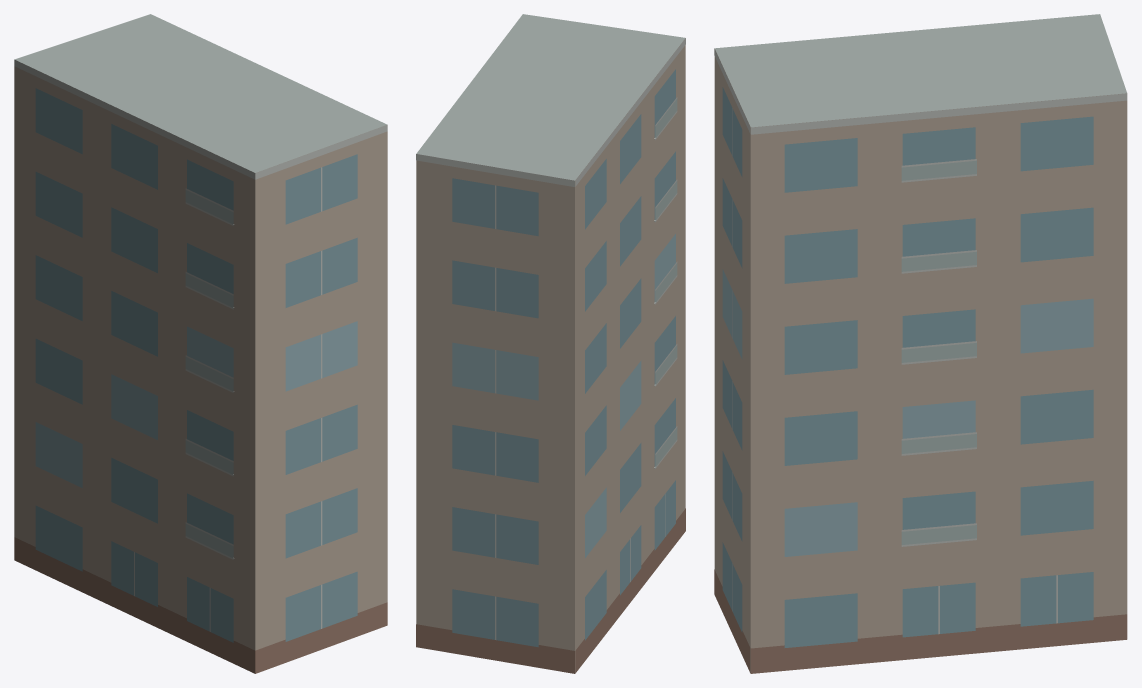
File: survey-upis-32746213.glb
The picture shows the model from 3 angles, left to right: view 1: azimuth 30°, elevation 25°; view 2: azimuth 150°, elevation 25°; view 3: azimuth 270°, elevation 25°; orthographic projection. The views are drawn at different scales.
Visible parts, largest first — view 1: survey-upis-32746213.tmp; view 2: survey-upis-32746213.tmp; view 3: survey-upis-32746213.tmp.
Boxes of the visible parts, x1,y1,x2,y2 form: survey-upis-32746213.tmp: (14, 14, 387, 673); survey-upis-32746213.tmp: (416, 14, 685, 673); survey-upis-32746213.tmp: (714, 14, 1127, 673).
Bounding box in the file's own units: 8.16 × 18.3 × 12.54.
